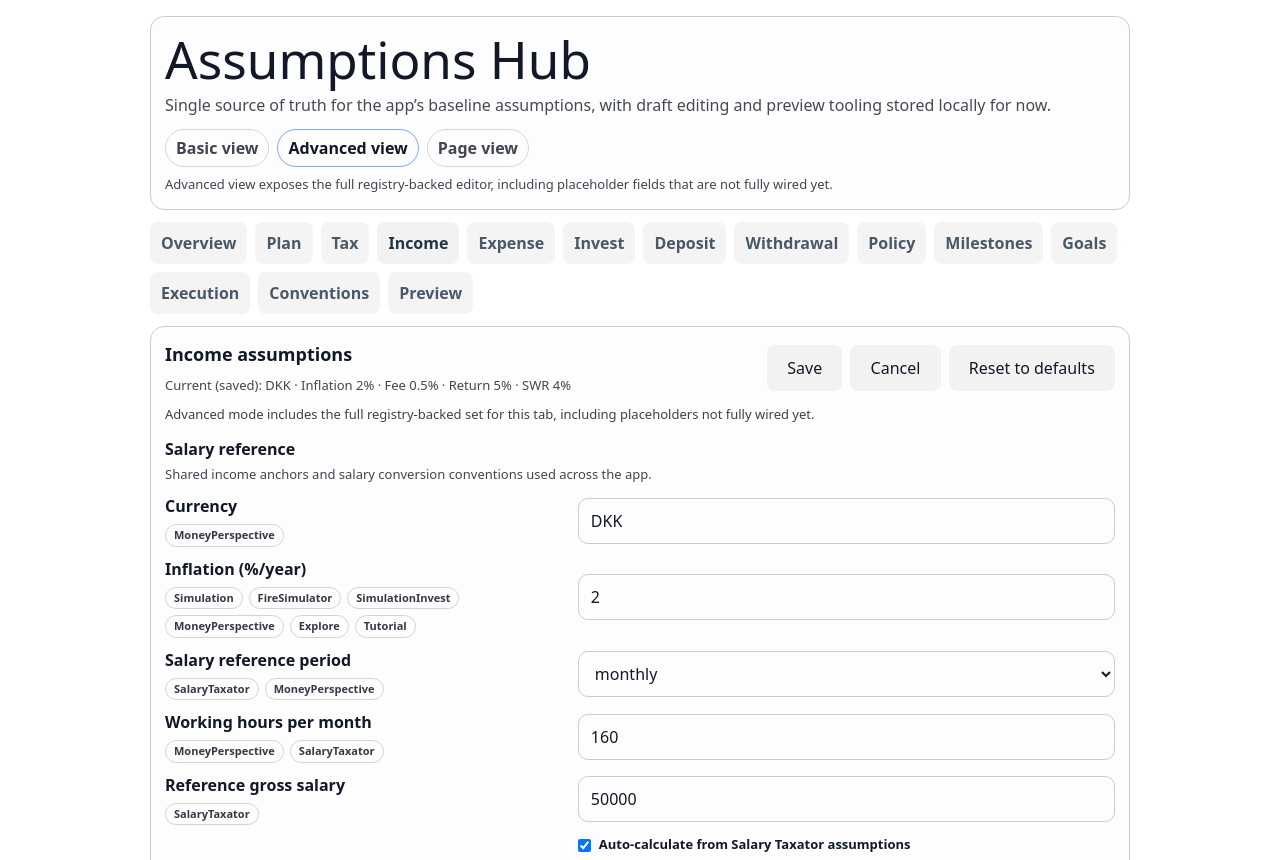
Test: AssumptionsHubPage › supports edit, cancel, reset, and save flows
The width and height of the screenshot is (1280, 860).
Replace the text in the number field labelled "Inflation (%/year)" with "3.5": (846, 597) [578,574,1115,620]
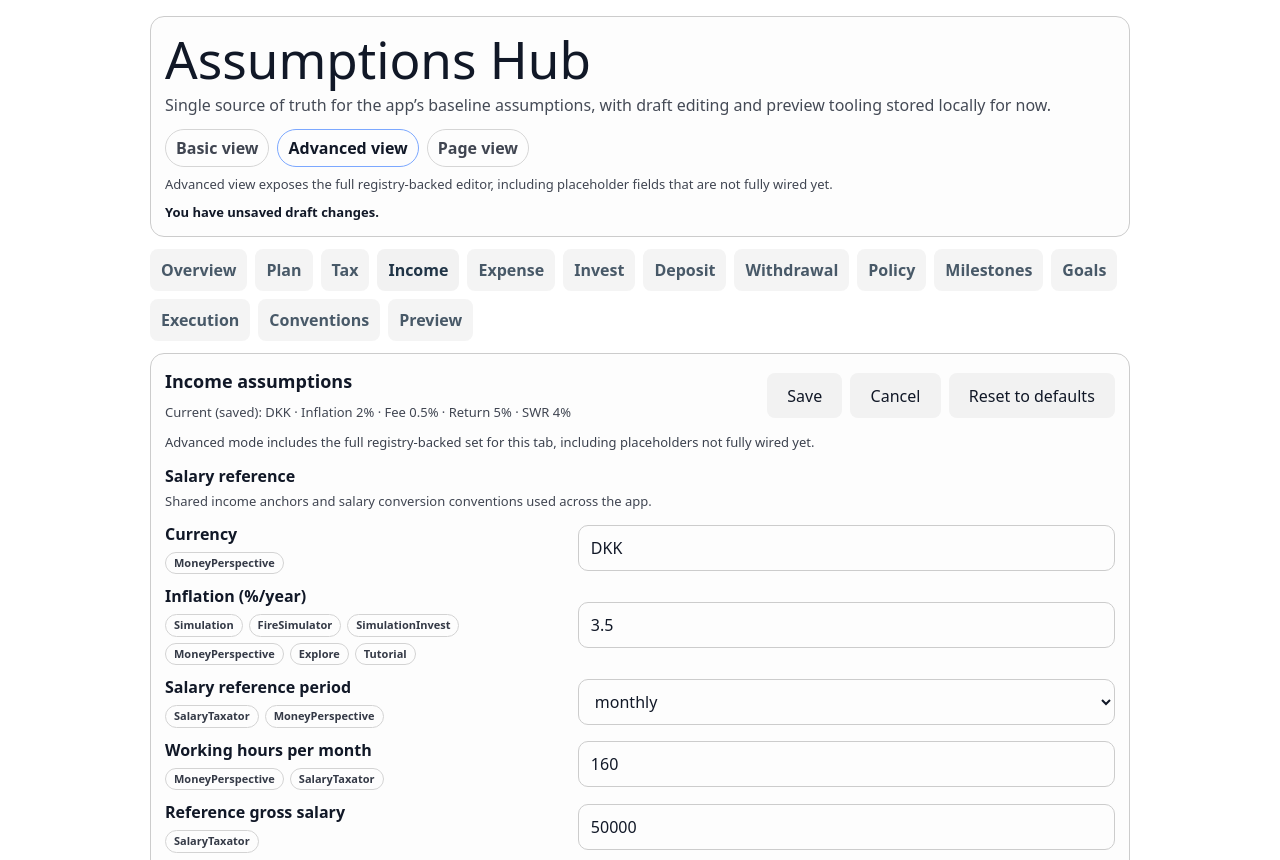
Result: the text "You have unsaved draft changes." is shown at [165,203,379,221]
Click the button "Cancel": click(896, 396) [850,373,941,418]
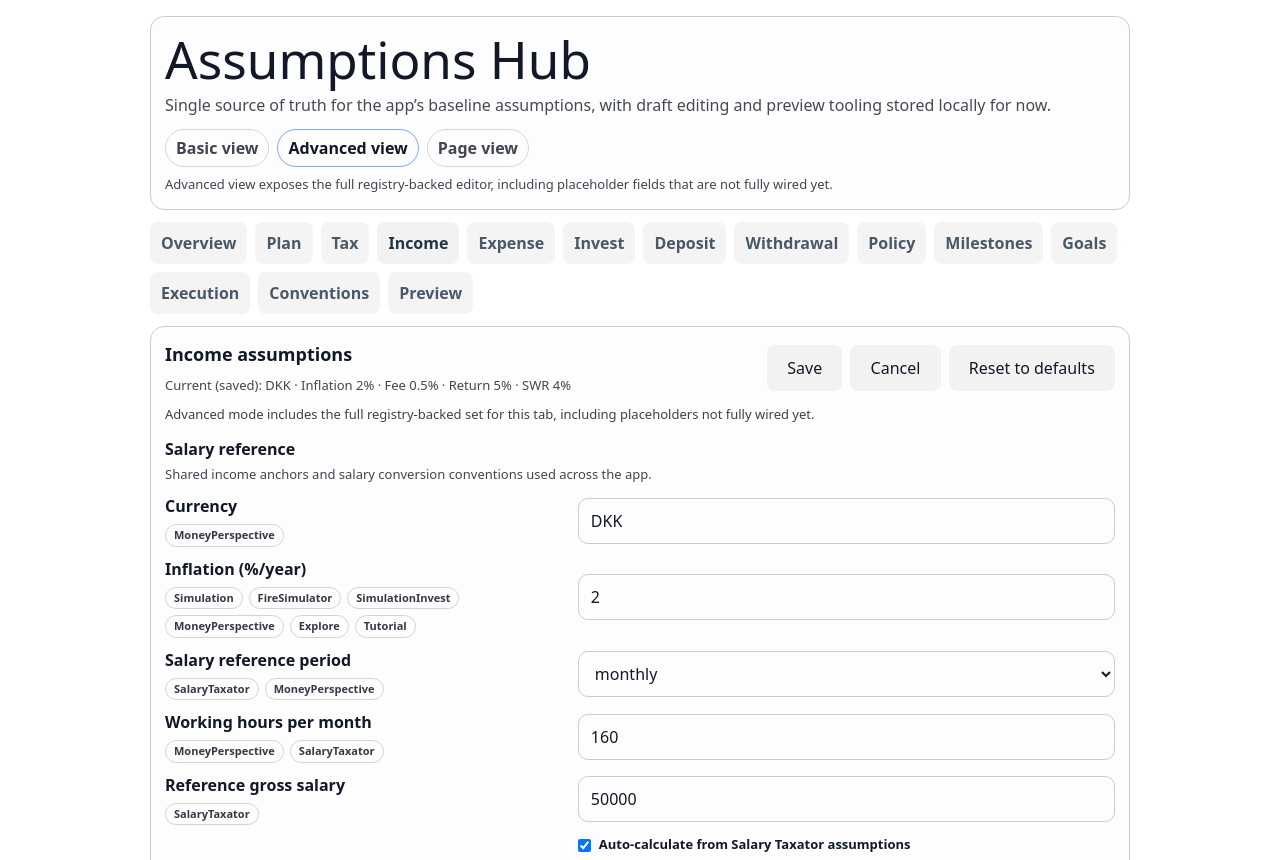
Result: the number field labelled "Inflation (%/year)" holds "2"
Replace the text in the number field labelled "Inflation (%/year)" with "3.5": (846, 597) [578,574,1115,620]
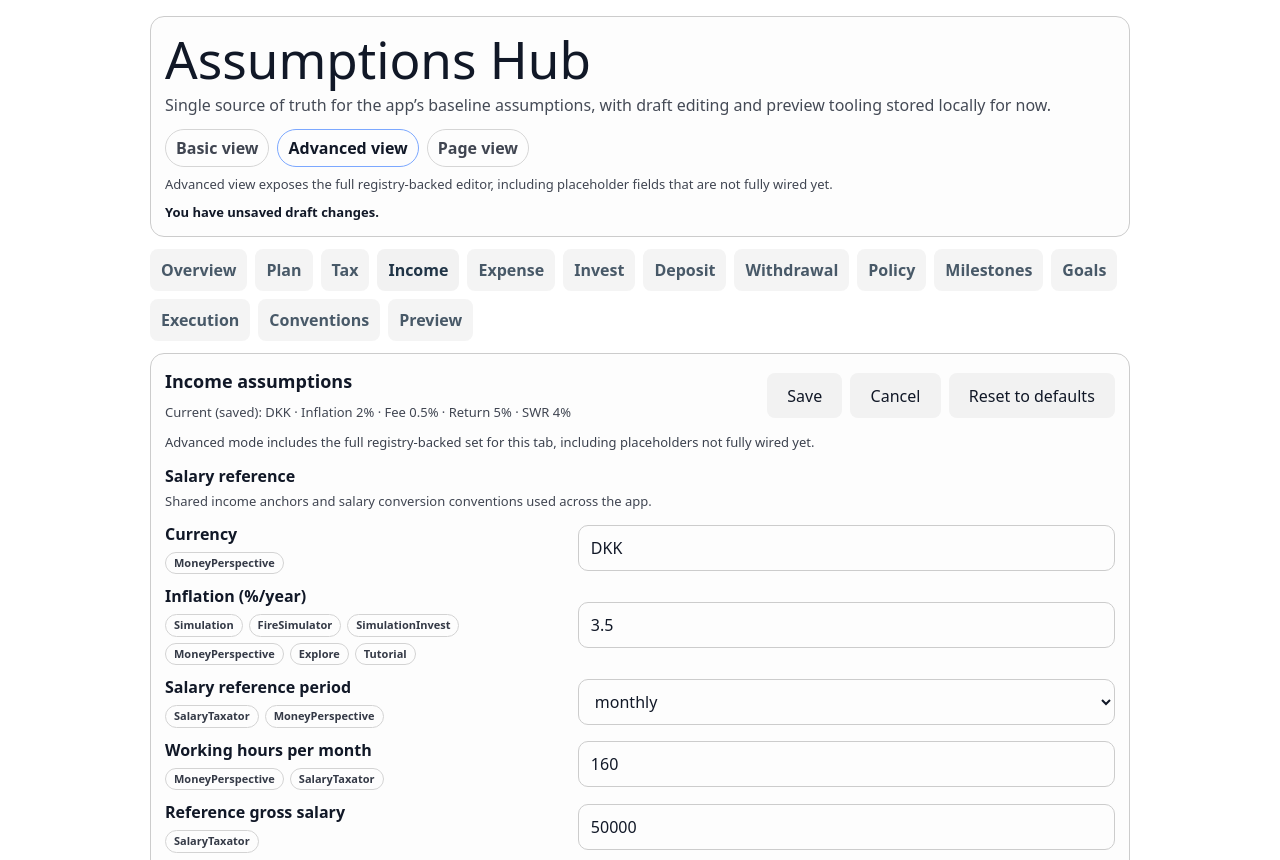
Click the button "Save": click(805, 396) [767,373,842,418]
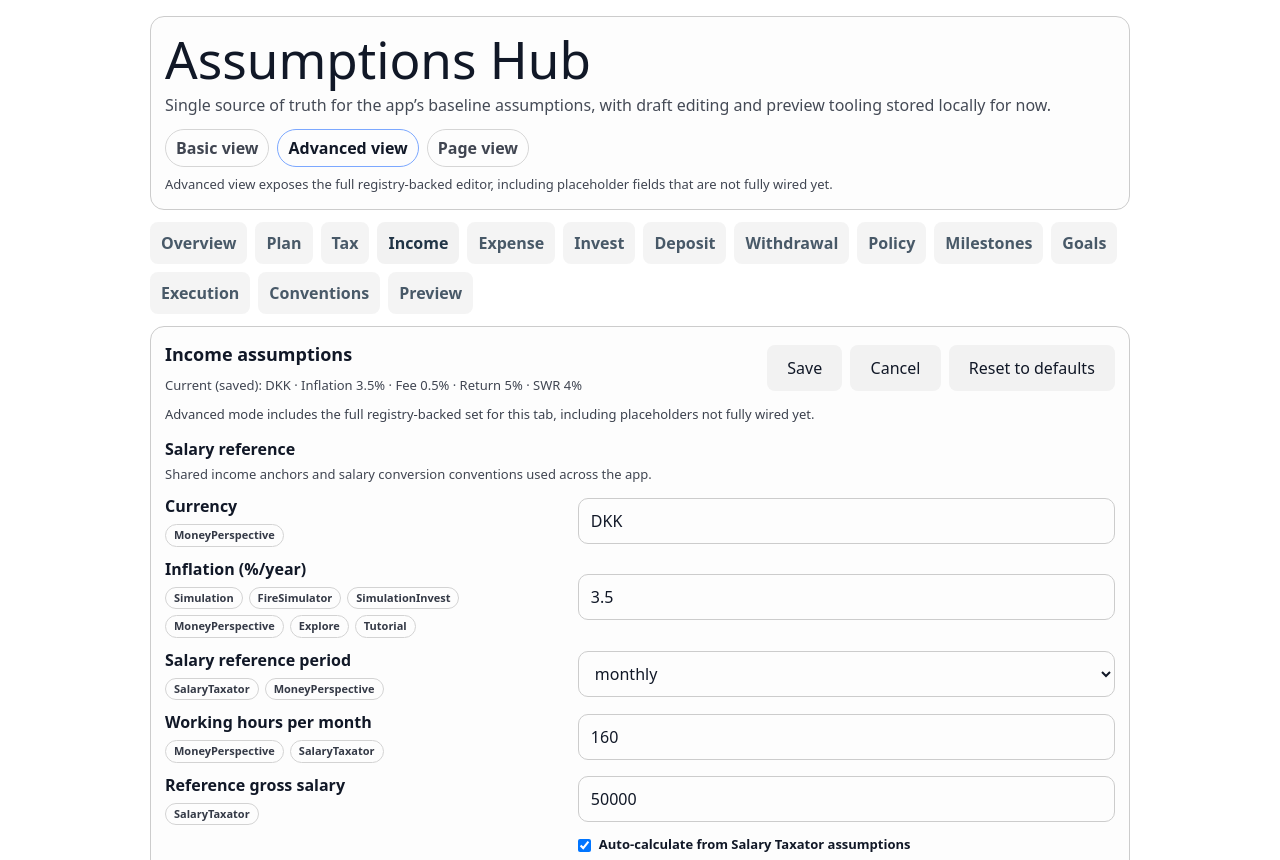
Result: the text "You have unsaved draft changes" is gone
Click the button "Reset to defaults": click(1032, 368) [949,346,1115,391]
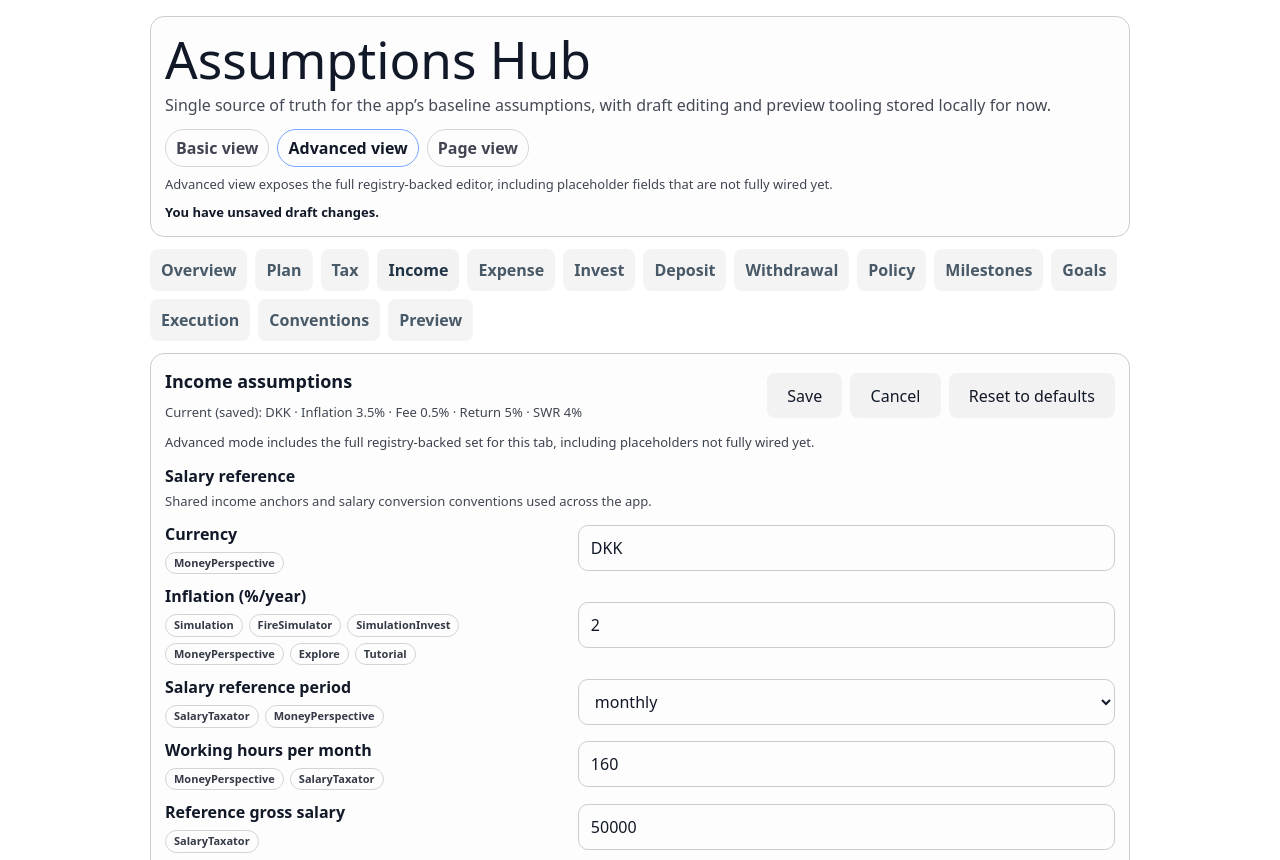
Result: the number field labelled "Inflation (%/year)" holds "2" at [578,602,1115,648]
